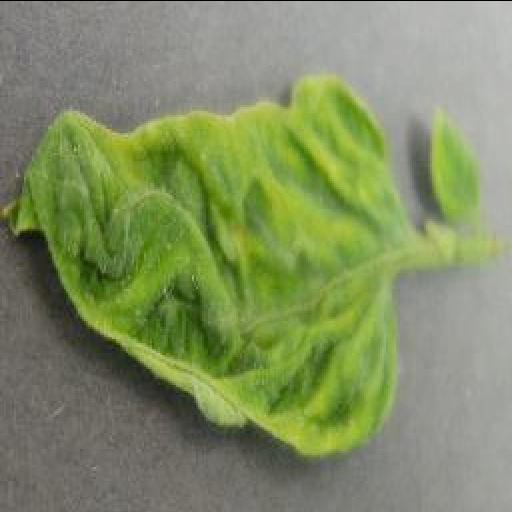disease_tomato: (6, 74, 404, 458), (424, 98, 482, 220)
